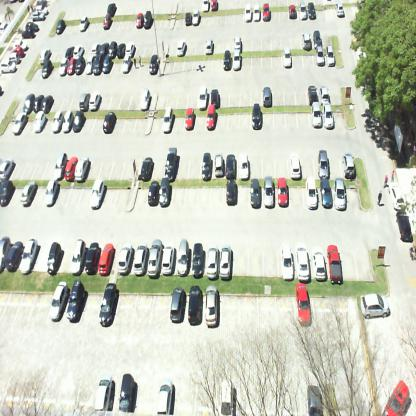car: (379, 378, 408, 416), (61, 289, 86, 326), (92, 372, 112, 416), (294, 280, 312, 327), (360, 292, 391, 319), (46, 290, 69, 326), (96, 288, 118, 324), (118, 372, 136, 414), (19, 238, 39, 274), (168, 291, 189, 325), (145, 240, 165, 275), (324, 242, 342, 280), (202, 293, 221, 329), (41, 239, 60, 273), (68, 240, 87, 274), (6, 238, 25, 272), (144, 177, 162, 211), (293, 243, 311, 277), (305, 384, 325, 414), (187, 292, 204, 327), (82, 240, 100, 273), (395, 209, 413, 242), (156, 378, 172, 415), (88, 174, 105, 208), (278, 244, 295, 278), (310, 242, 326, 278), (219, 377, 234, 415), (160, 241, 177, 274), (174, 243, 191, 276), (203, 241, 218, 278), (387, 181, 406, 210), (188, 242, 204, 276), (156, 178, 172, 211), (132, 240, 148, 273), (217, 242, 233, 275), (96, 244, 113, 274), (316, 177, 332, 208), (20, 179, 38, 206), (314, 148, 330, 178), (118, 242, 134, 272), (0, 234, 12, 272), (73, 154, 91, 179), (0, 177, 15, 207), (341, 149, 357, 177), (330, 179, 345, 208), (288, 147, 302, 177), (262, 178, 276, 208), (276, 179, 290, 209), (44, 177, 58, 207), (12, 111, 29, 135), (304, 178, 317, 209), (101, 107, 115, 135), (54, 150, 67, 180), (138, 155, 153, 179), (249, 179, 261, 209), (139, 86, 152, 113), (164, 152, 178, 177), (199, 152, 213, 177), (210, 152, 224, 177), (64, 156, 78, 181), (224, 179, 236, 208), (224, 150, 236, 178), (33, 110, 47, 134), (0, 155, 14, 178), (88, 90, 102, 113), (72, 110, 86, 132), (41, 92, 55, 114), (162, 107, 174, 132), (237, 152, 249, 177), (62, 110, 74, 134), (51, 108, 63, 132), (311, 102, 322, 128), (321, 104, 334, 126), (41, 57, 54, 79), (32, 90, 44, 113), (324, 44, 336, 67), (92, 55, 105, 76), (184, 106, 194, 133), (0, 58, 16, 74), (85, 52, 96, 75), (148, 54, 160, 75), (75, 55, 87, 76), (252, 105, 262, 130), (205, 108, 216, 130), (281, 47, 292, 69), (176, 36, 187, 58), (197, 86, 207, 110), (313, 46, 325, 66), (318, 86, 331, 104), (58, 56, 69, 77), (262, 84, 272, 107), (232, 48, 242, 71), (222, 48, 232, 71), (122, 51, 132, 74), (210, 88, 220, 110), (79, 90, 89, 112), (302, 30, 312, 52), (116, 39, 127, 59), (107, 38, 118, 58), (311, 30, 323, 48), (39, 46, 51, 64), (55, 16, 67, 34), (102, 53, 112, 74), (307, 84, 318, 103), (72, 44, 85, 60), (243, 2, 252, 25), (144, 9, 154, 29), (334, 2, 346, 18), (99, 39, 109, 58), (307, 1, 317, 20), (298, 1, 308, 20), (79, 13, 89, 32), (135, 8, 144, 29), (22, 94, 32, 112), (232, 34, 242, 52), (204, 37, 214, 55), (91, 38, 101, 56), (102, 12, 112, 30), (20, 29, 36, 40), (67, 58, 77, 75), (262, 1, 270, 22), (31, 10, 46, 21), (252, 2, 260, 22), (11, 46, 24, 58), (26, 20, 39, 32), (14, 38, 28, 49), (125, 42, 135, 57), (65, 44, 75, 59), (287, 4, 297, 19), (192, 9, 200, 27), (185, 8, 193, 26), (7, 53, 20, 64), (36, 3, 49, 14), (107, 1, 117, 15), (210, 0, 218, 13), (202, 0, 210, 12), (36, 0, 48, 7)
